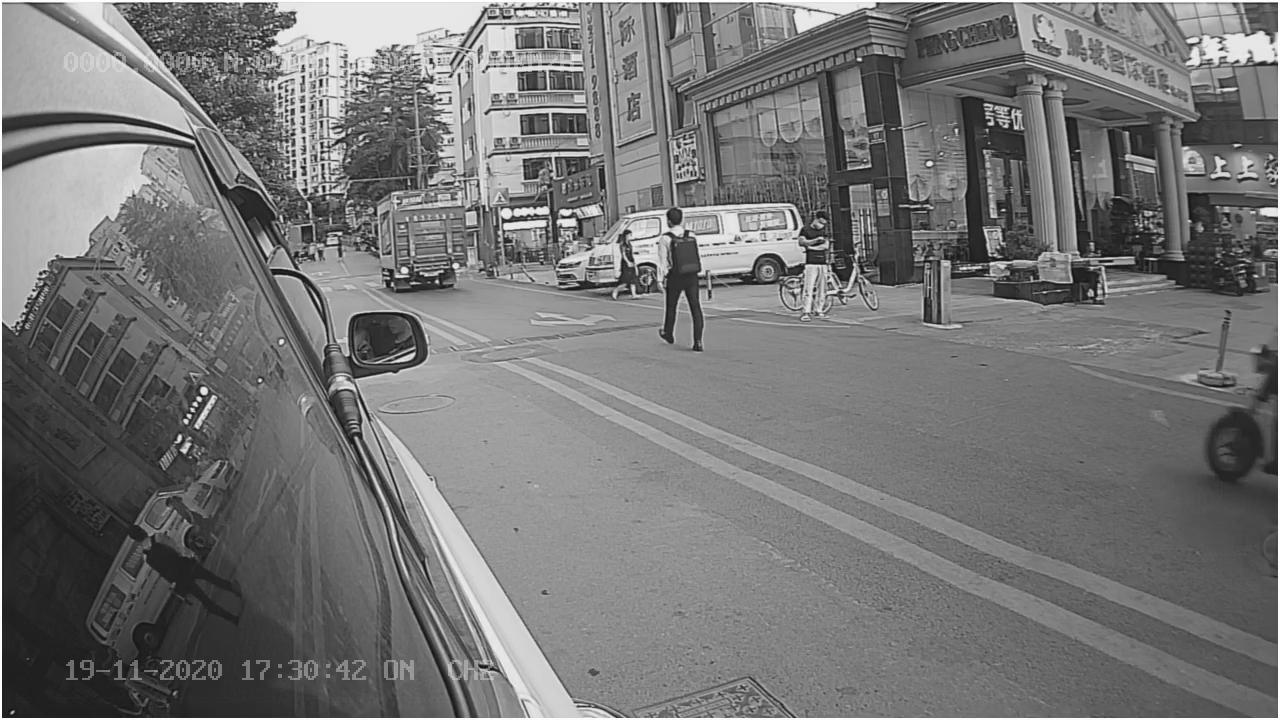person: (651, 204, 709, 349)
